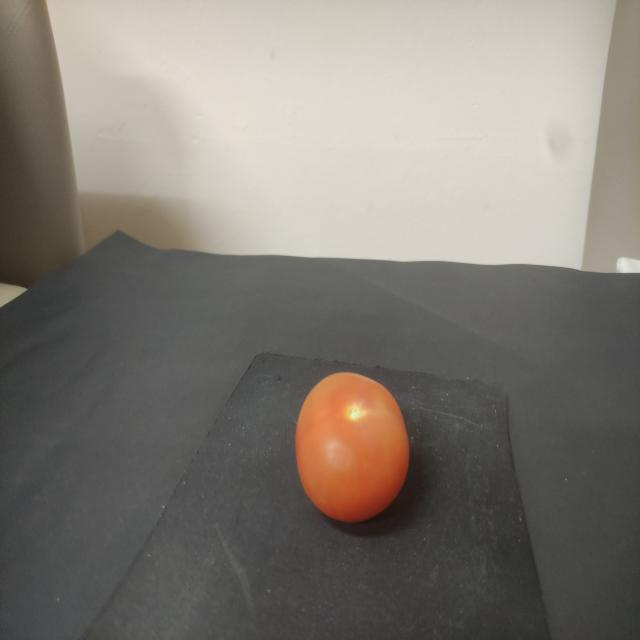sari: (294, 356, 406, 532)
